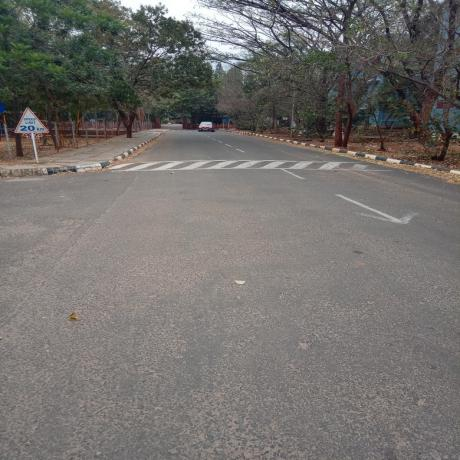Speed Bump: (114, 160, 396, 171)
